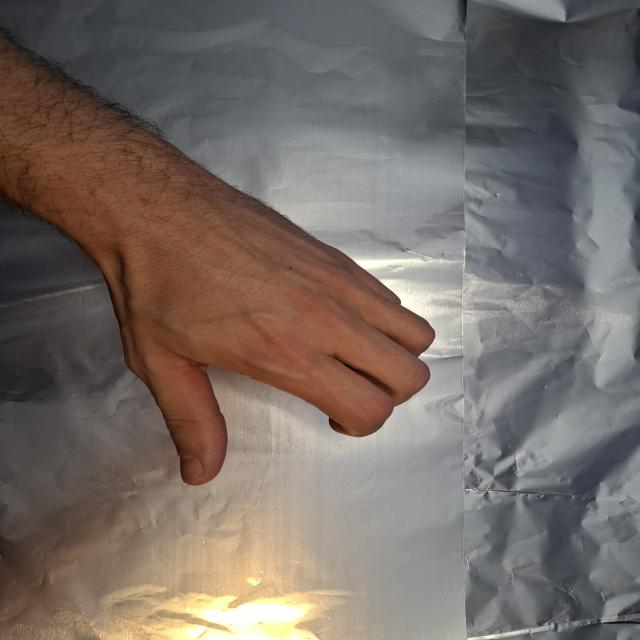glove_off: (82, 211, 438, 488)
